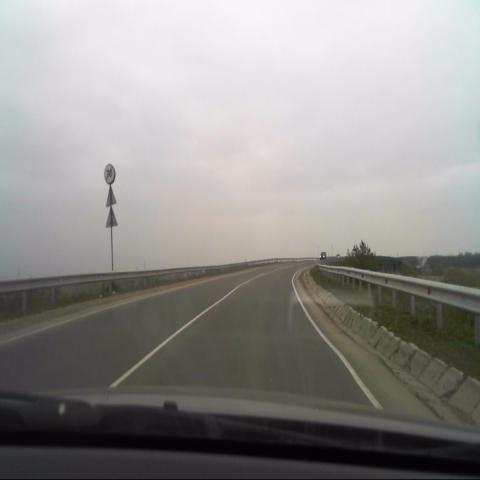3_25: (104, 165, 115, 185)
